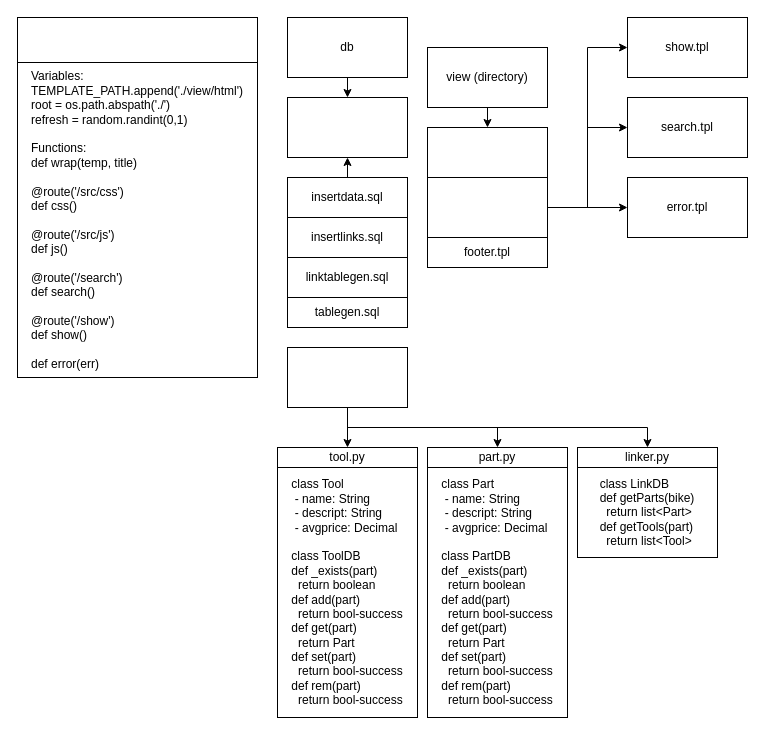
Some shapes in this 765 by 735 pixel diagram are drawn without their labels. The box of each missing label's shape, as (x1, y1, x2, y2) in pixels:
db.sqlite3: (286, 96, 408, 158)
header.tpl - title: String - refresh: String: (426, 126, 548, 178)
main.py: (16, 16, 258, 62)
model (directory): (286, 346, 408, 408)
Page Content: (426, 176, 548, 238)
